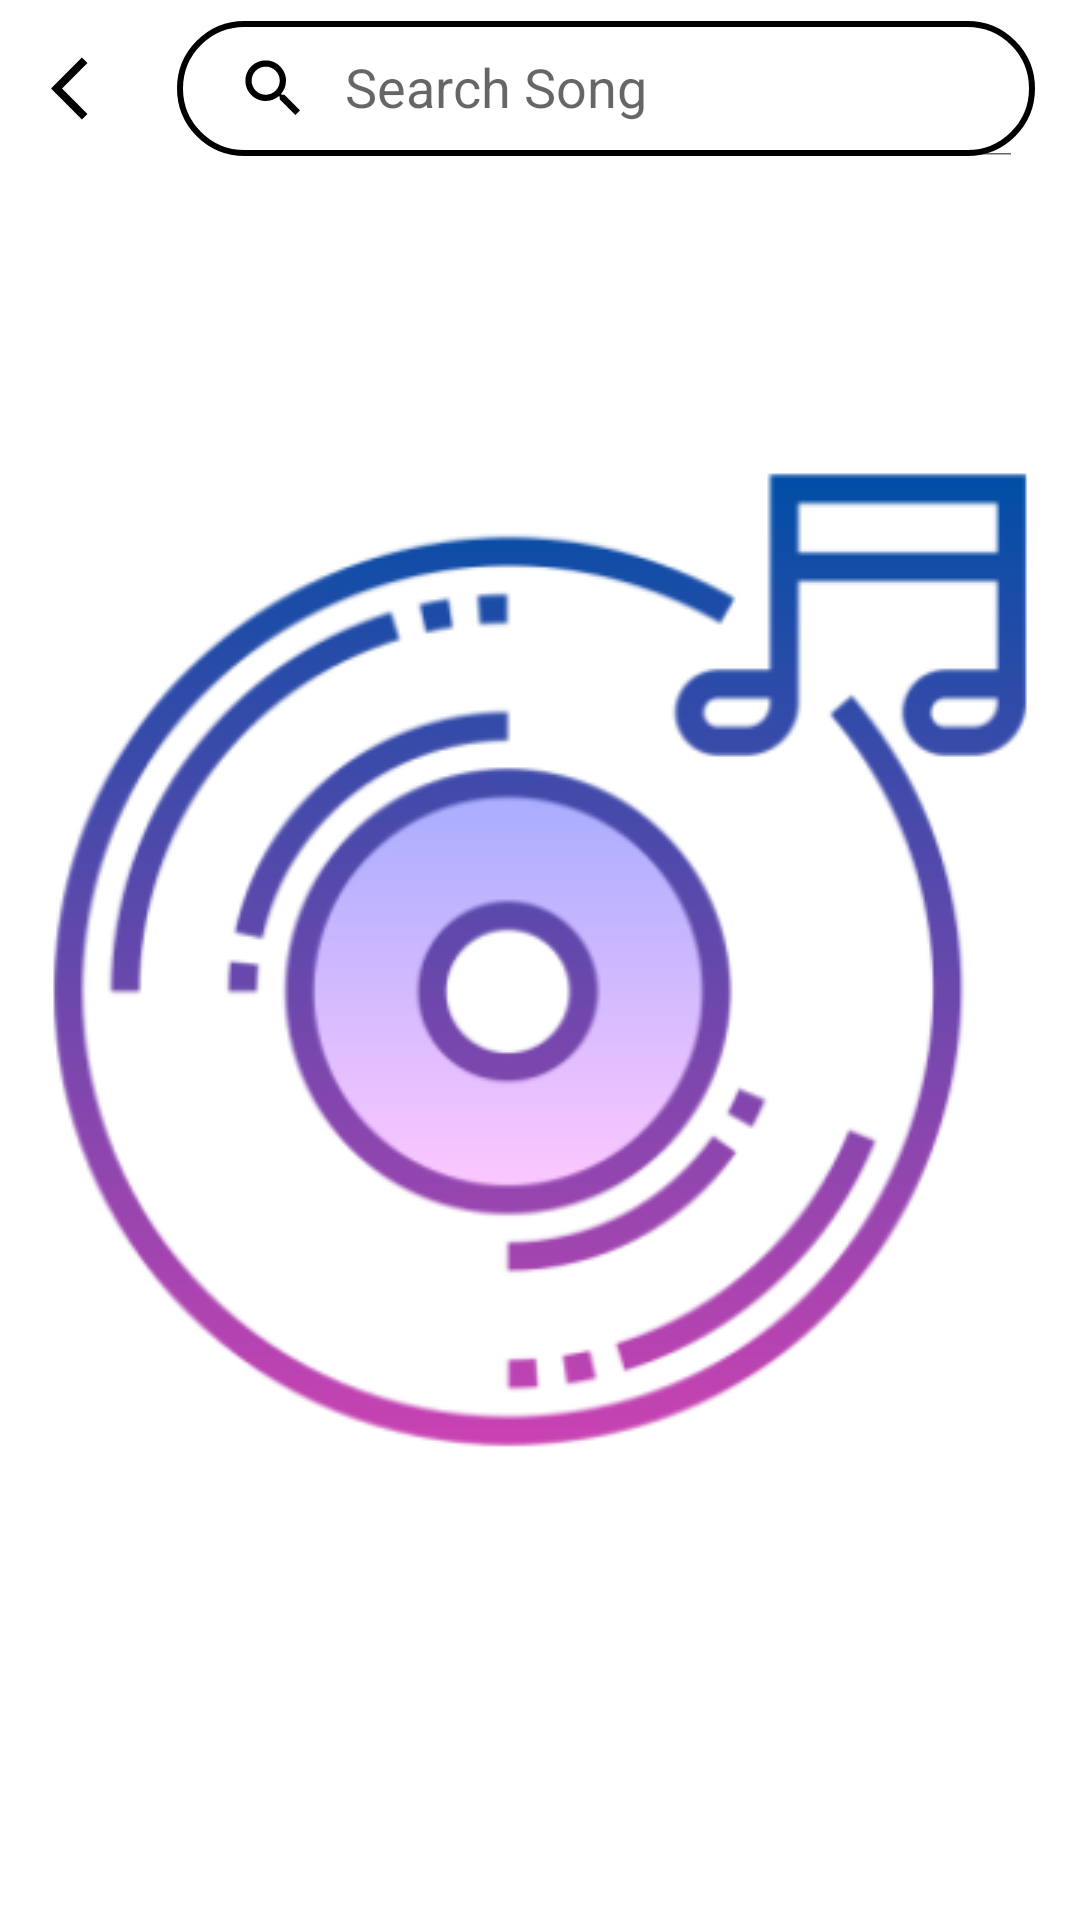

Where icons sit on this 1080 x 1920 app screen, as [x1=x1, y1=y1, x2=x2, y2=y2]:
Back: [x1=51, y1=57, x2=88, y2=120]
